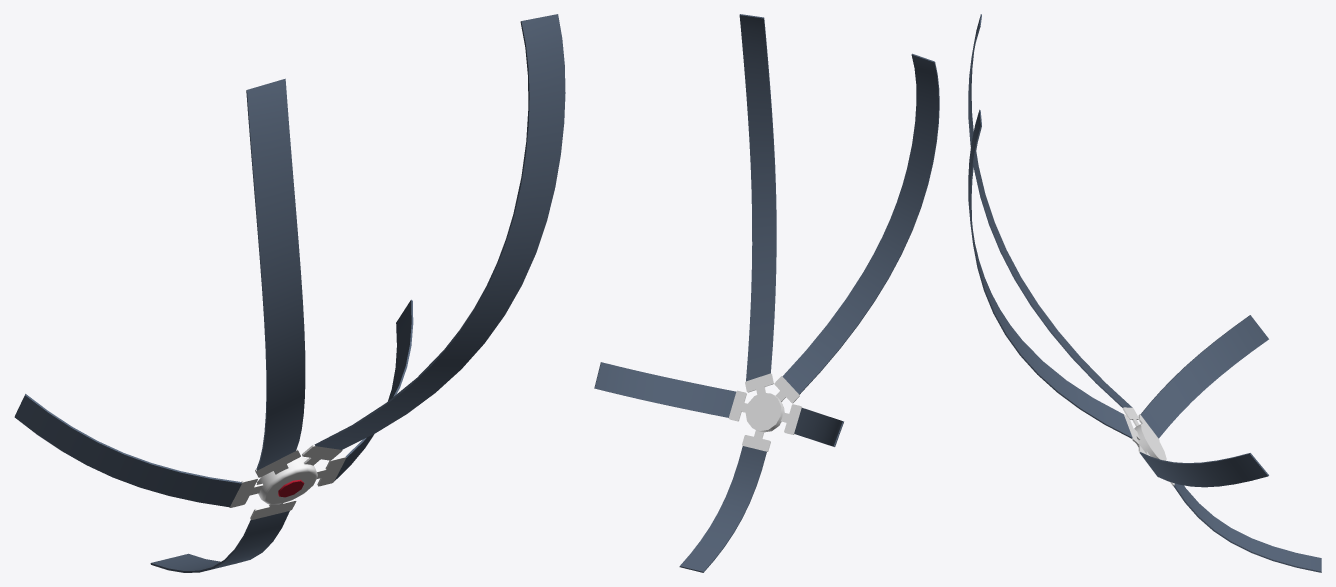
Rendered from Harness.obj.
3 views of the same model, side by side, from view 1: azimuth 30°, elevation 25°; view 2: azimuth 150°, elevation 25°; view 3: azimuth 270°, elevation 25° (orthographic). The views are drawn at different scales.
Parts seen in each view (by area): view 1: Harness; view 2: Harness; view 3: Harness.
Boxes of the visible parts, x1=… form: Harness: x1=14, y1=14, x2=565, y2=572; Harness: x1=594, y1=14, x2=939, y2=572; Harness: x1=968, y1=14, x2=1321, y2=572.
Size of the model in its own units: 439 by 737 by 473.
